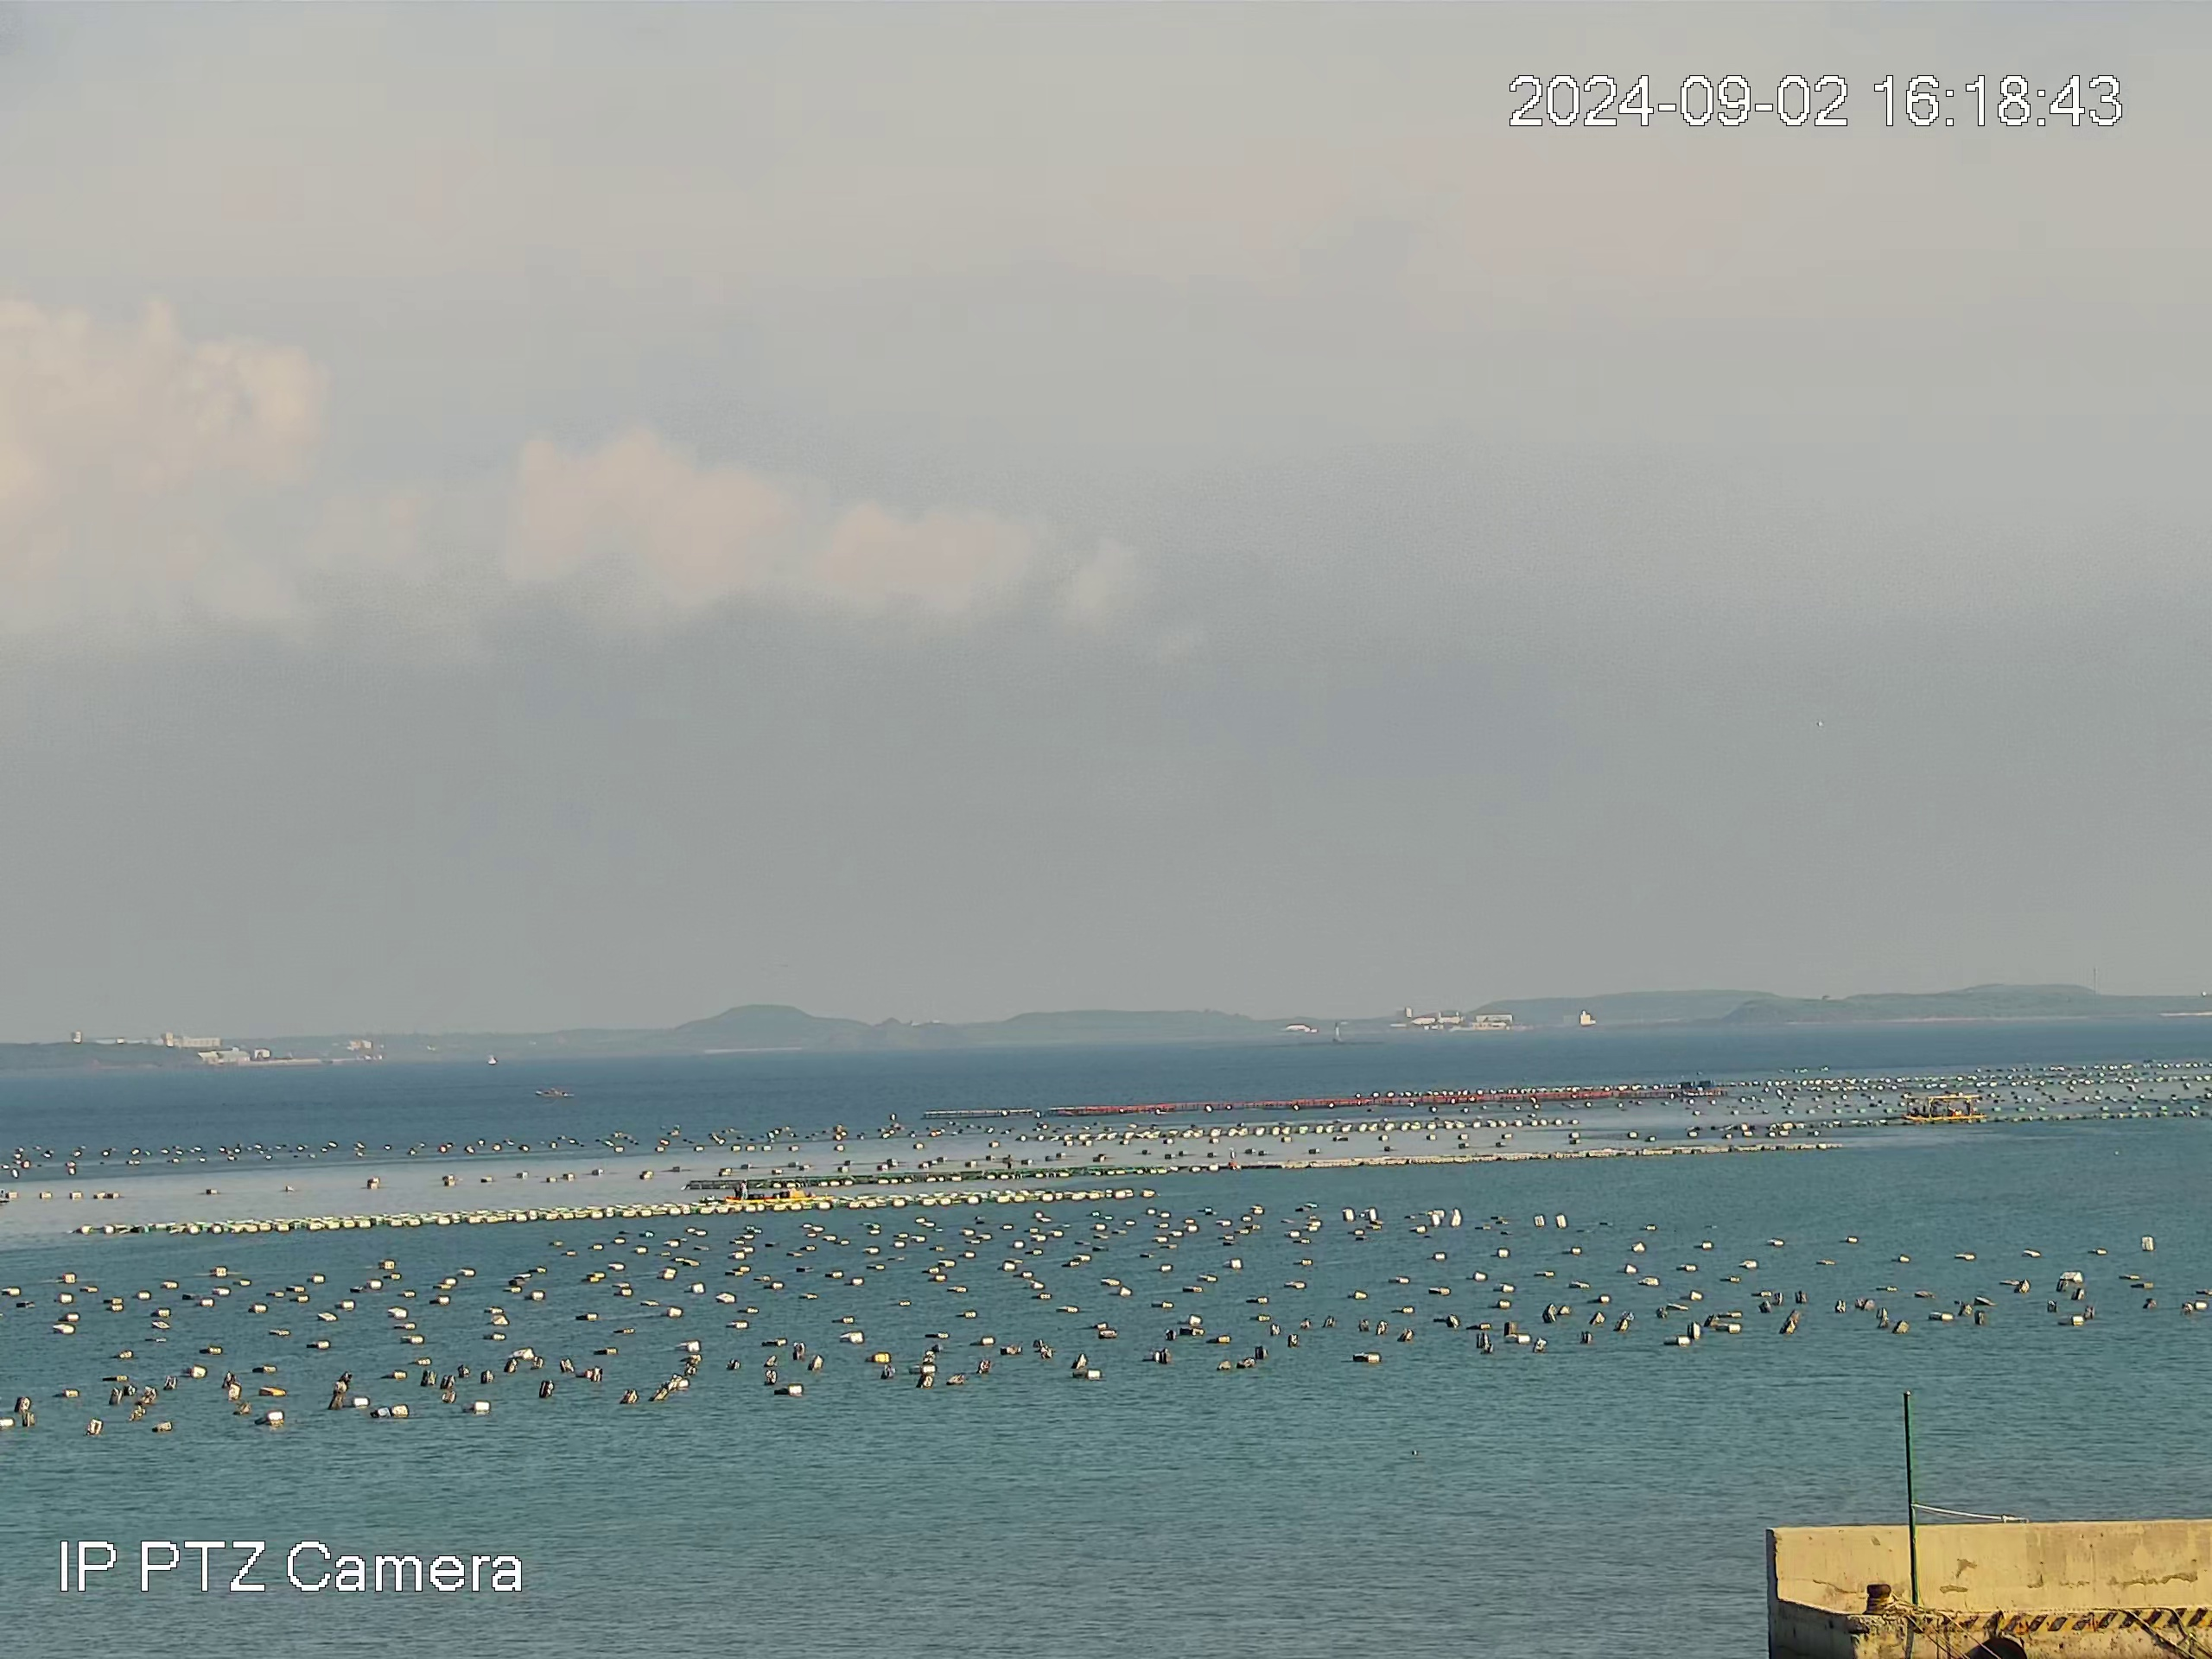boat: (1902, 1093, 1987, 1126), (721, 1178, 813, 1204)
